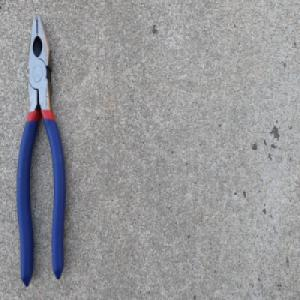Pliers: (15, 11, 66, 288)
